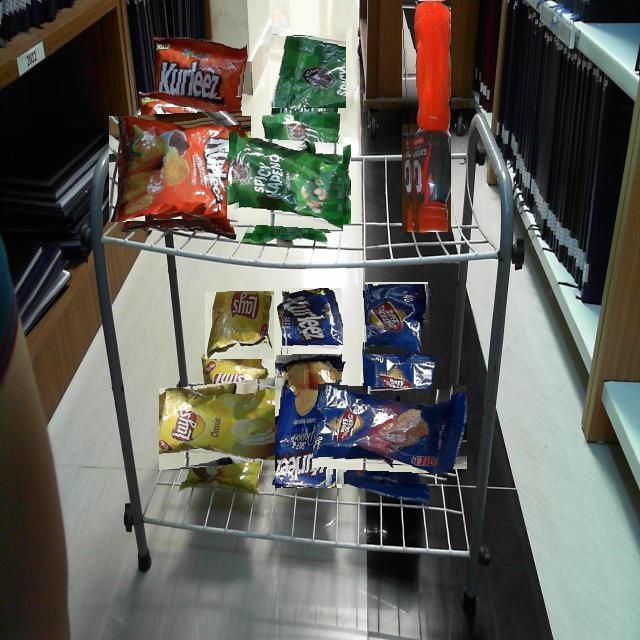Plastic: (118, 107, 242, 232), (337, 370, 452, 484), (172, 374, 281, 483), (401, 0, 451, 232), (239, 128, 343, 233), (275, 354, 342, 488), (154, 32, 247, 98), (270, 34, 346, 108), (204, 291, 274, 359), (362, 284, 430, 352), (280, 290, 343, 354)
